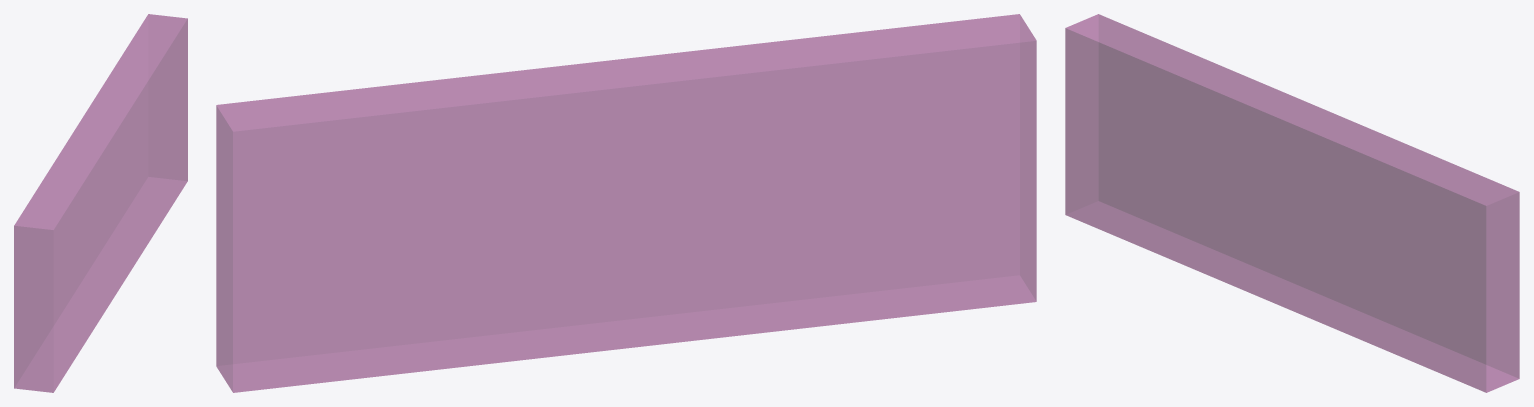
Rendered from SM_Bld_Railing_Rail_45_02_Collision.fbx.
3 views of the same model, side by side, from view 1: azimuth 30°, elevation 25°; view 2: azimuth 150°, elevation 25°; view 3: azimuth 270°, elevation 25° (orthographic). The views are drawn at different scales.
Visible parts, largest first — view 1: SM_Bld_Railing_Rail_45_02_Collision; view 2: SM_Bld_Railing_Rail_45_02_Collision; view 3: SM_Bld_Railing_Rail_45_02_Collision.
Boxes of the visible parts, x1=… form: SM_Bld_Railing_Rail_45_02_Collision: x1=14, y1=14, x2=187, y2=392; SM_Bld_Railing_Rail_45_02_Collision: x1=216, y1=14, x2=1036, y2=392; SM_Bld_Railing_Rail_45_02_Collision: x1=1065, y1=14, x2=1519, y2=392.
Bounding box in the file's own units: 253 × 115 × 253.
